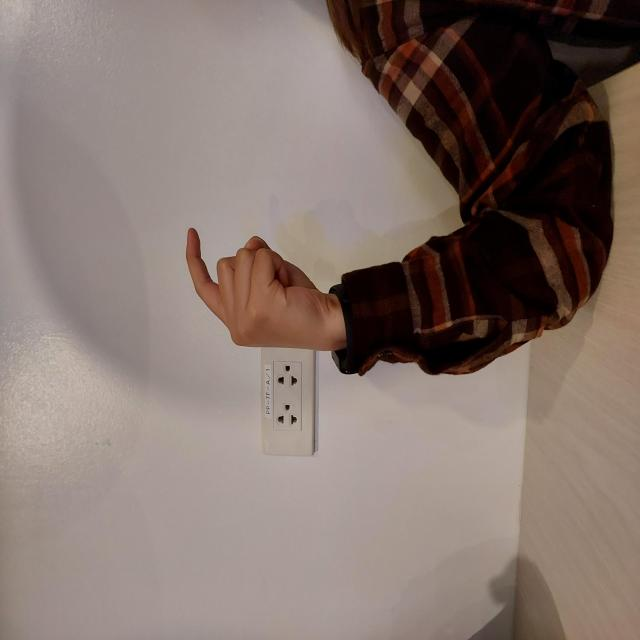X: (287, 184, 414, 338)
